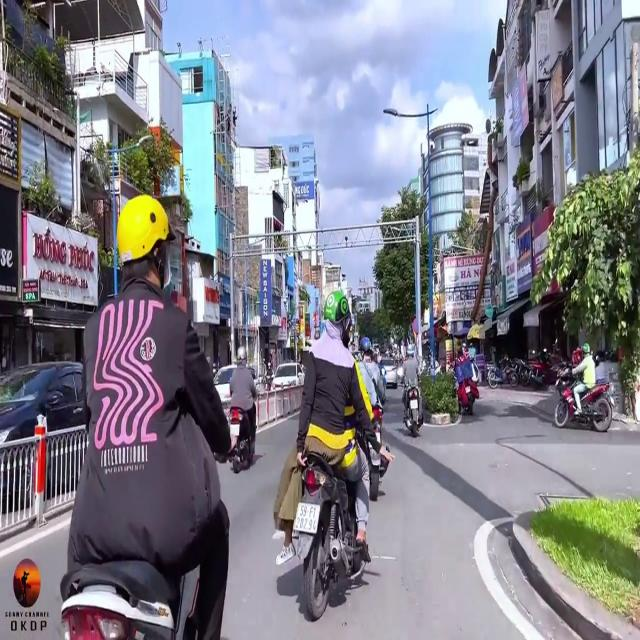bien_trang: (292, 501, 319, 536)
